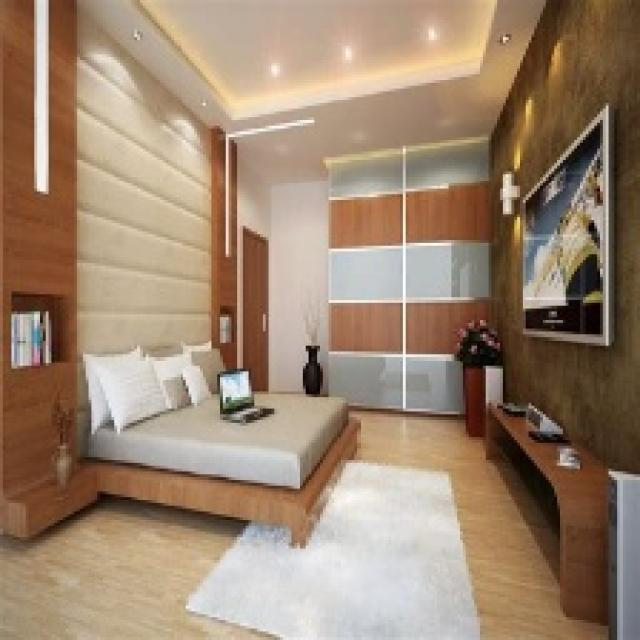Bed: (80, 340, 360, 549)
